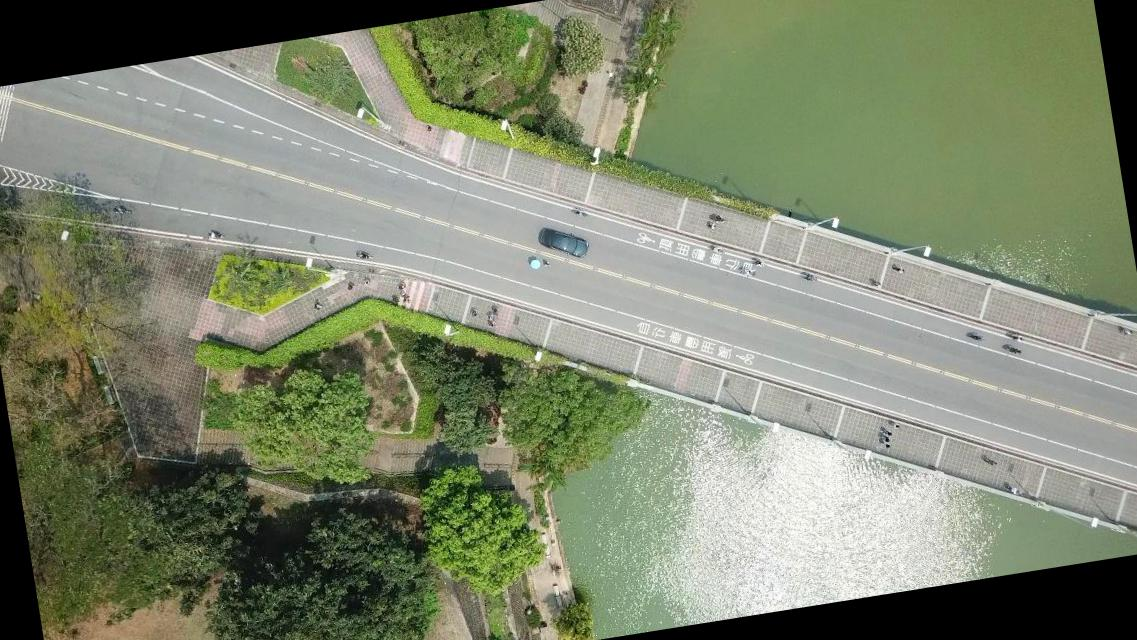vehicle: (538, 222, 590, 262)
